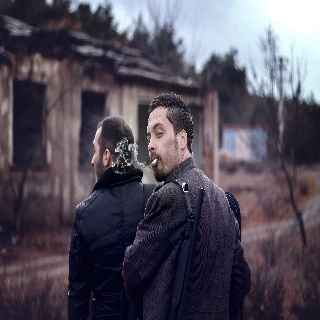rifle: (165, 186, 206, 320)
